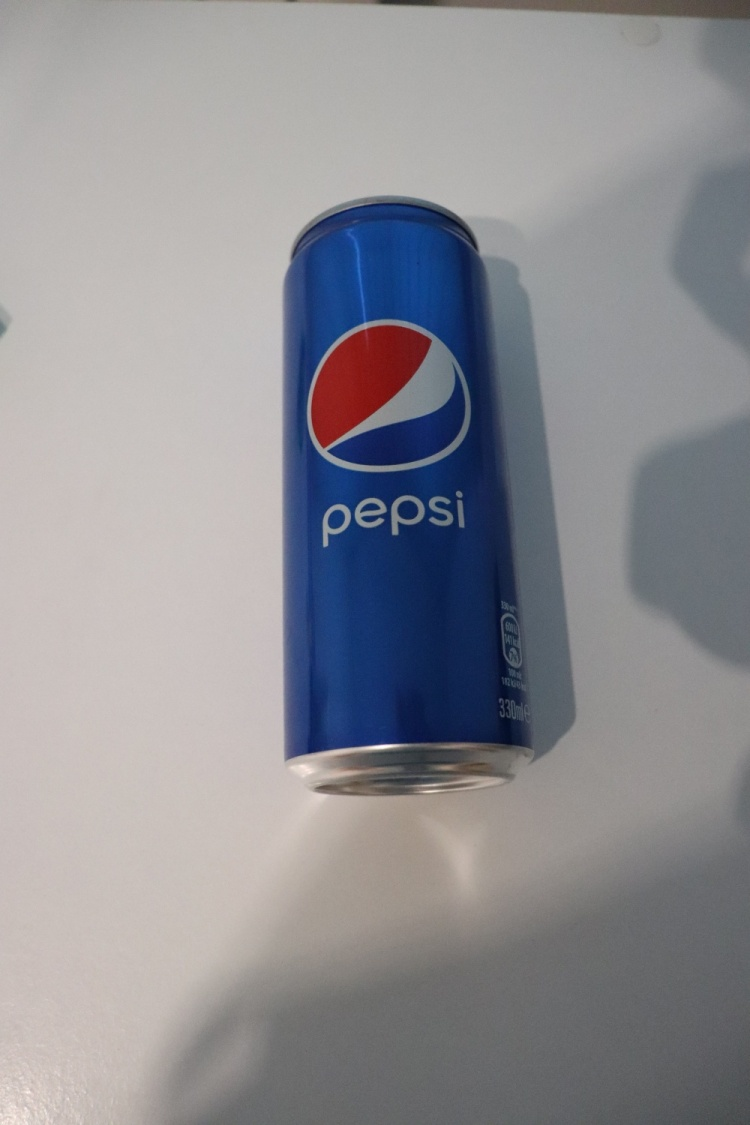pepsi: (274, 196, 539, 805)
